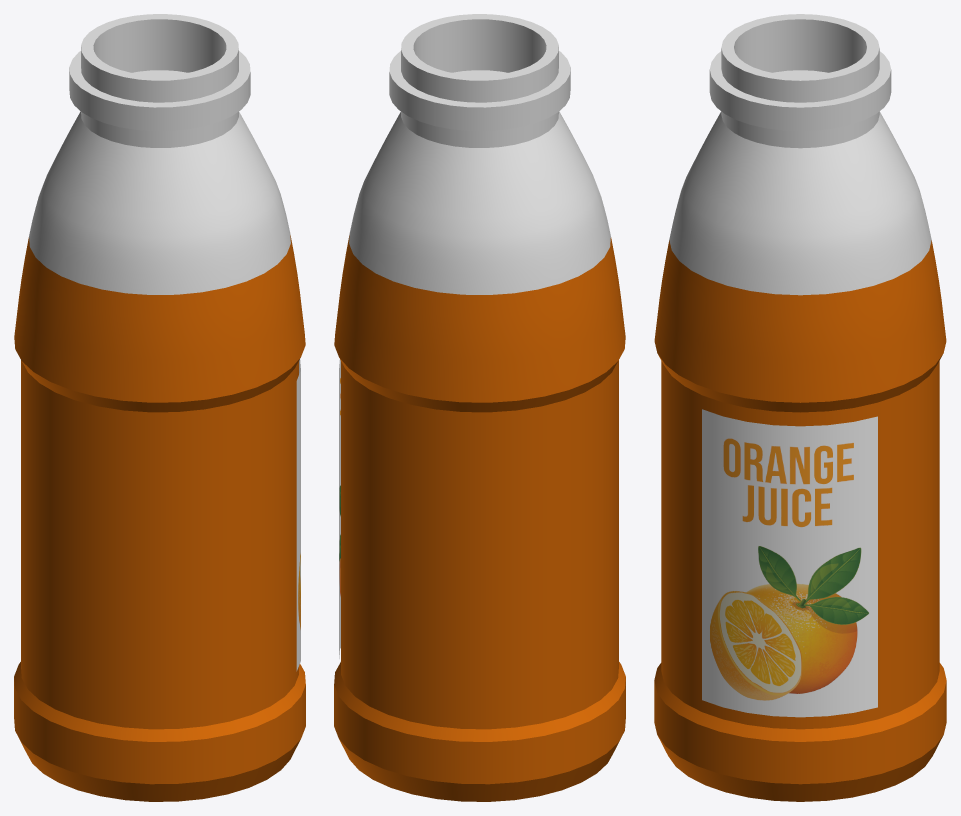
Rendered from Orange_Juice_Join.fbx.
The picture shows the model from 3 angles, left to right: view 1: azimuth 30°, elevation 25°; view 2: azimuth 150°, elevation 25°; view 3: azimuth 270°, elevation 25°; orthographic projection.
Parts seen in each view (by area): view 1: Lavel; view 2: Lavel; view 3: Lavel.
Boxes of the visible parts, x1=… form: Lavel: x1=14, y1=14, x2=305, y2=801; Lavel: x1=334, y1=14, x2=625, y2=801; Lavel: x1=654, y1=14, x2=946, y2=801.
Size of the model in its own units: 2.1 by 5.52 by 2.1.
